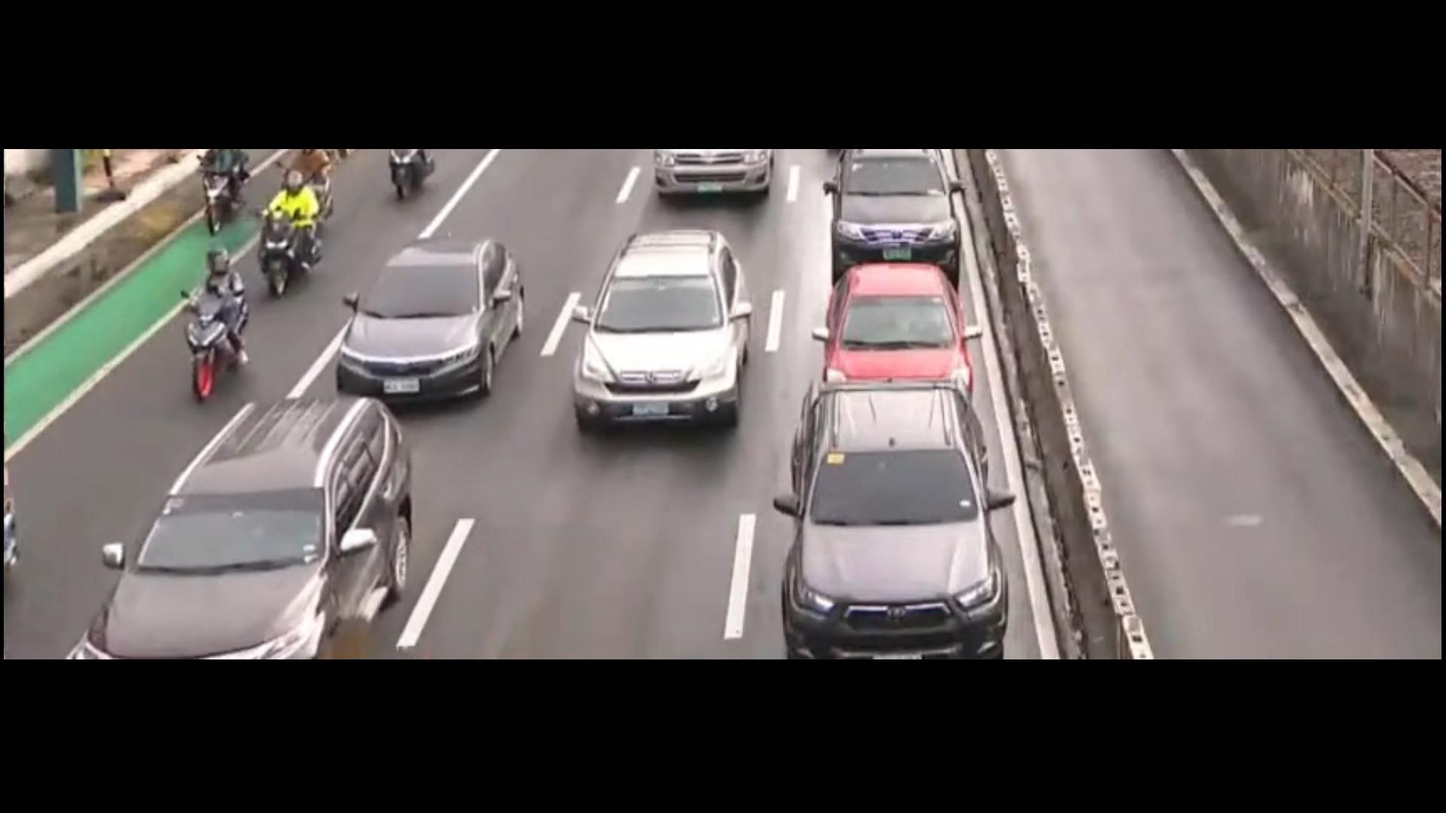Motorcycle: (177, 249, 262, 395)
SUV: (61, 386, 433, 664), (772, 390, 1031, 661), (569, 221, 769, 458), (825, 157, 980, 277)
Sedan: (311, 221, 554, 416), (811, 253, 983, 402)
